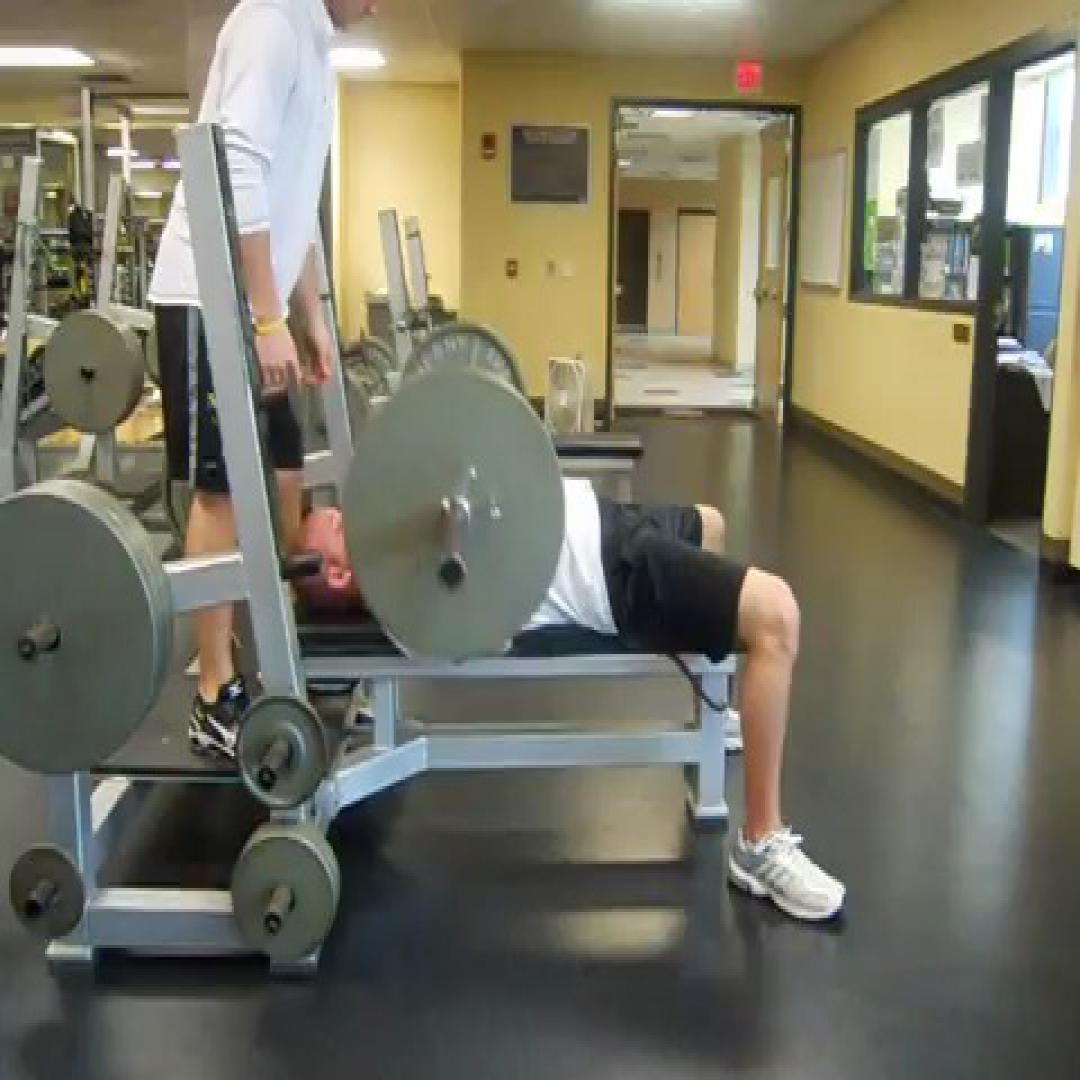Bar: (432, 549, 470, 597)
Barbell: (340, 375, 566, 663)
